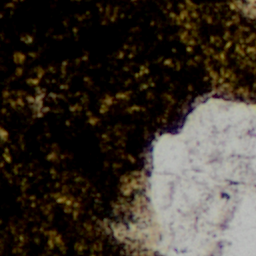cement_matrix: (0, 0, 255, 255)
gravel_crushed_stones: (111, 94, 255, 255), (236, 0, 255, 17)
